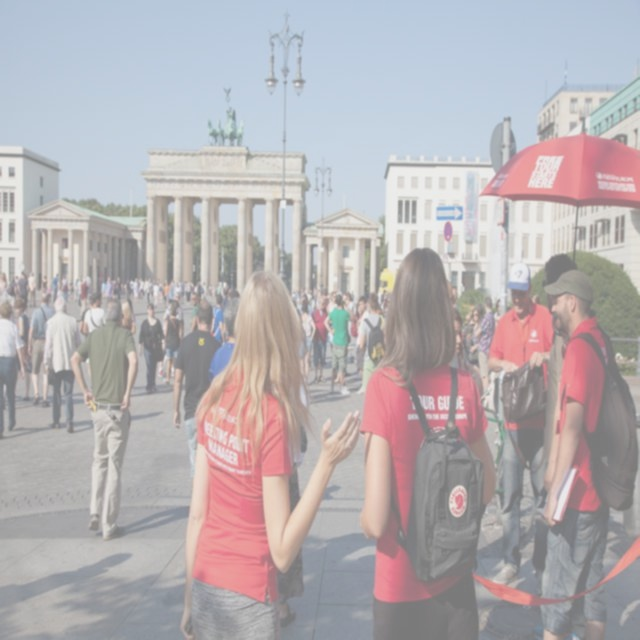pessoa: (180, 267, 362, 639), (357, 240, 502, 640), (539, 266, 640, 640), (483, 260, 568, 606), (65, 294, 140, 544), (172, 299, 225, 494), (272, 372, 312, 628), (540, 251, 580, 496), (42, 296, 82, 434), (0, 298, 27, 442), (99, 276, 231, 302), (323, 293, 355, 396), (27, 288, 54, 410), (358, 290, 388, 398), (208, 296, 242, 388), (138, 299, 168, 394), (474, 295, 496, 399), (293, 286, 388, 310), (0, 302, 18, 412), (13, 299, 32, 402), (158, 300, 180, 378), (354, 294, 370, 396), (309, 293, 327, 383), (162, 305, 181, 383), (79, 294, 93, 392), (463, 306, 483, 370), (299, 298, 313, 388), (83, 292, 107, 335), (210, 293, 226, 357), (448, 304, 464, 368), (353, 298, 363, 376), (5, 274, 18, 318), (17, 271, 29, 317), (444, 276, 460, 308), (188, 292, 200, 334), (125, 298, 136, 336), (70, 272, 81, 310), (120, 300, 134, 329), (80, 279, 90, 318), (27, 271, 37, 309), (55, 282, 65, 320), (0, 270, 8, 306), (85, 270, 92, 306), (52, 273, 60, 304), (39, 286, 50, 308), (61, 274, 69, 302), (42, 274, 48, 294), (14, 270, 24, 282), (47, 284, 52, 302), (334, 370, 341, 382)
